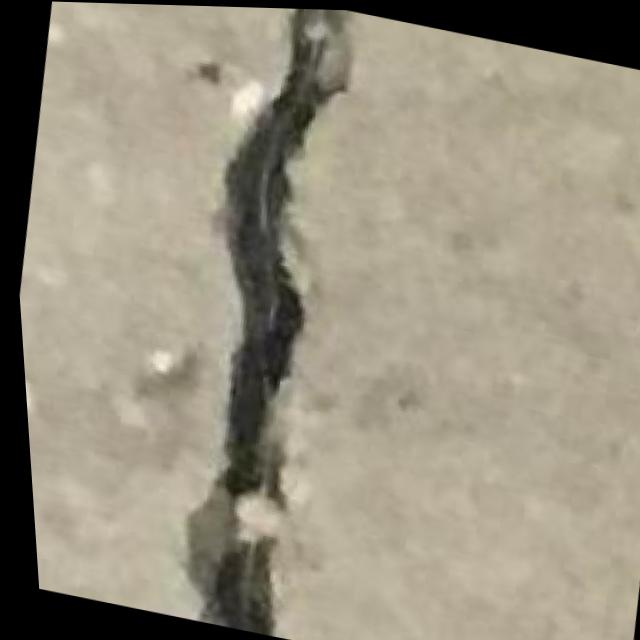Crack: (105, 2, 405, 640)
